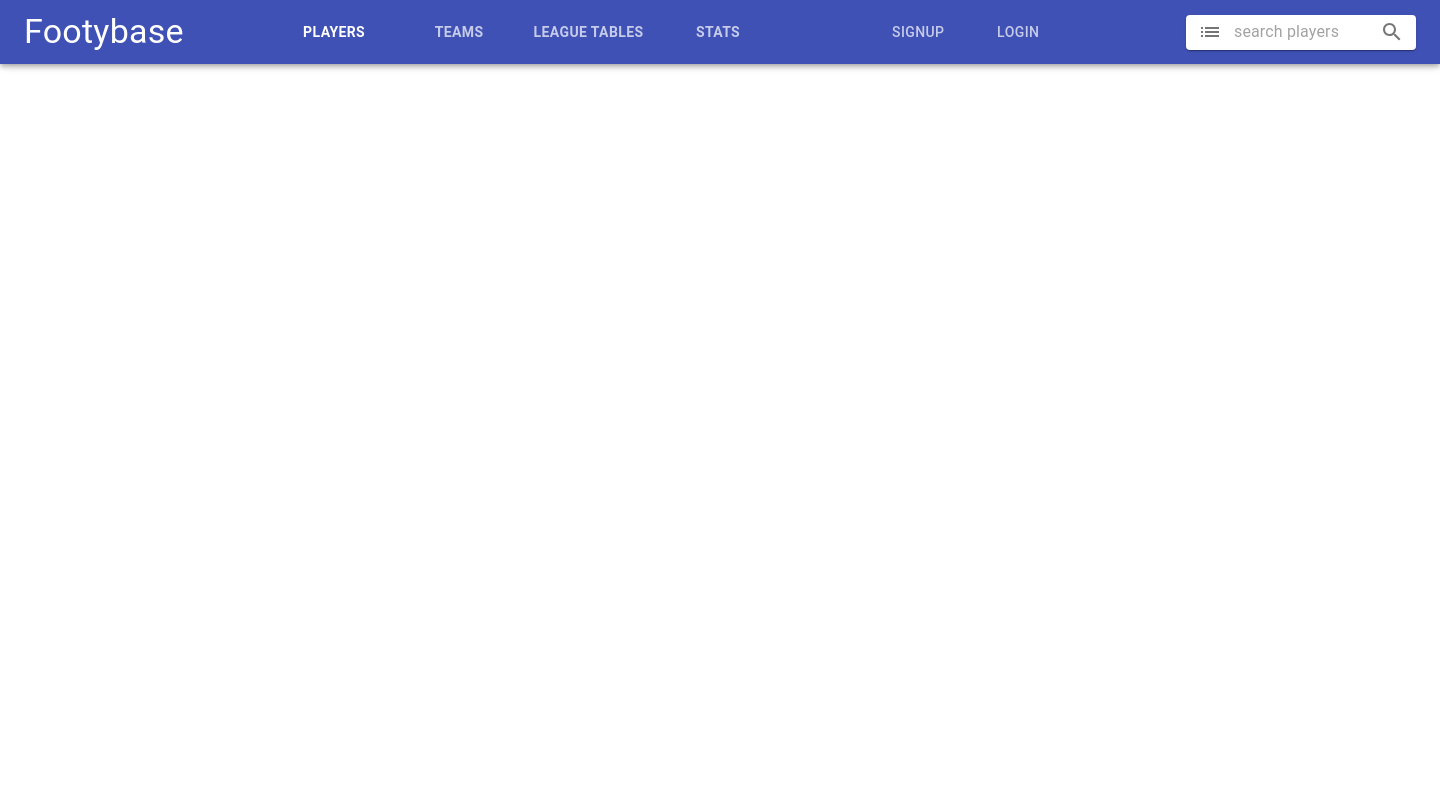
Test: Nav Bar › Layout › Opens a menu when tab is clicked
Click the tab "Players": {"x": 334, "y": 32} [272, 8, 397, 56]
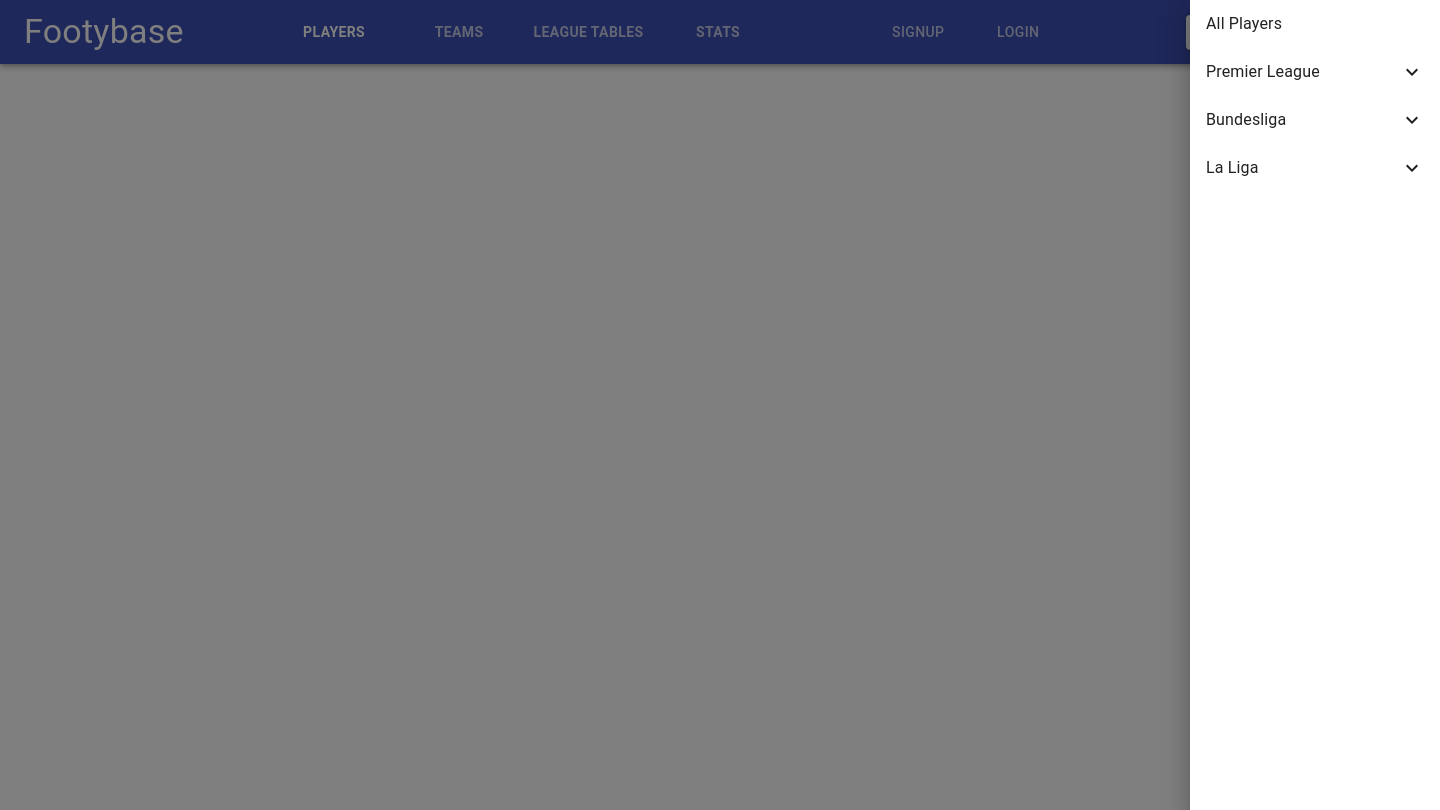
Expected: the element with test id "Box" is shown, [1190, 0, 1439, 192]
